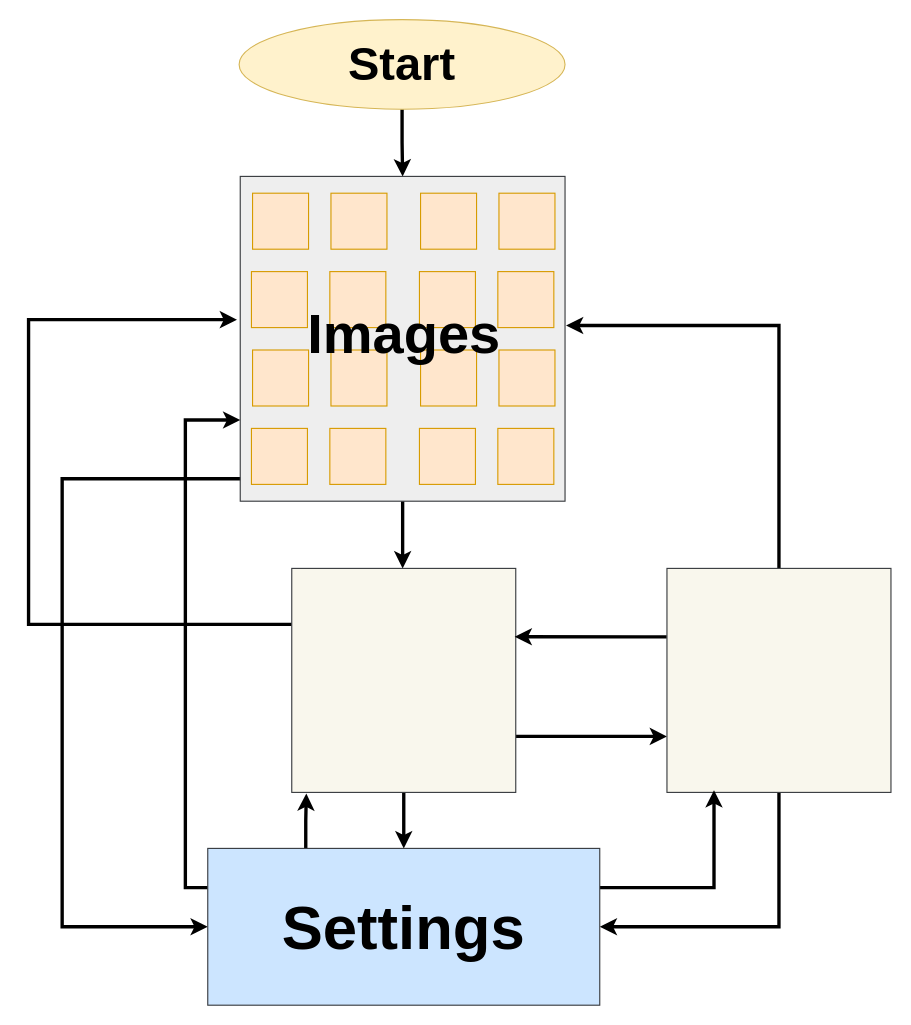
Image size: 911x1025. Some labels were removed from this diagram. The centre of each missing label's shape, as x and y in pixels:
Info page: pixel 778 679
Map: pixel 403 679
